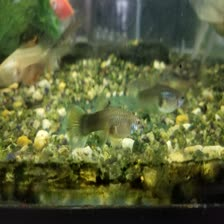Guppy: (46, 102, 143, 153), (0, 34, 56, 87), (127, 83, 191, 114)
